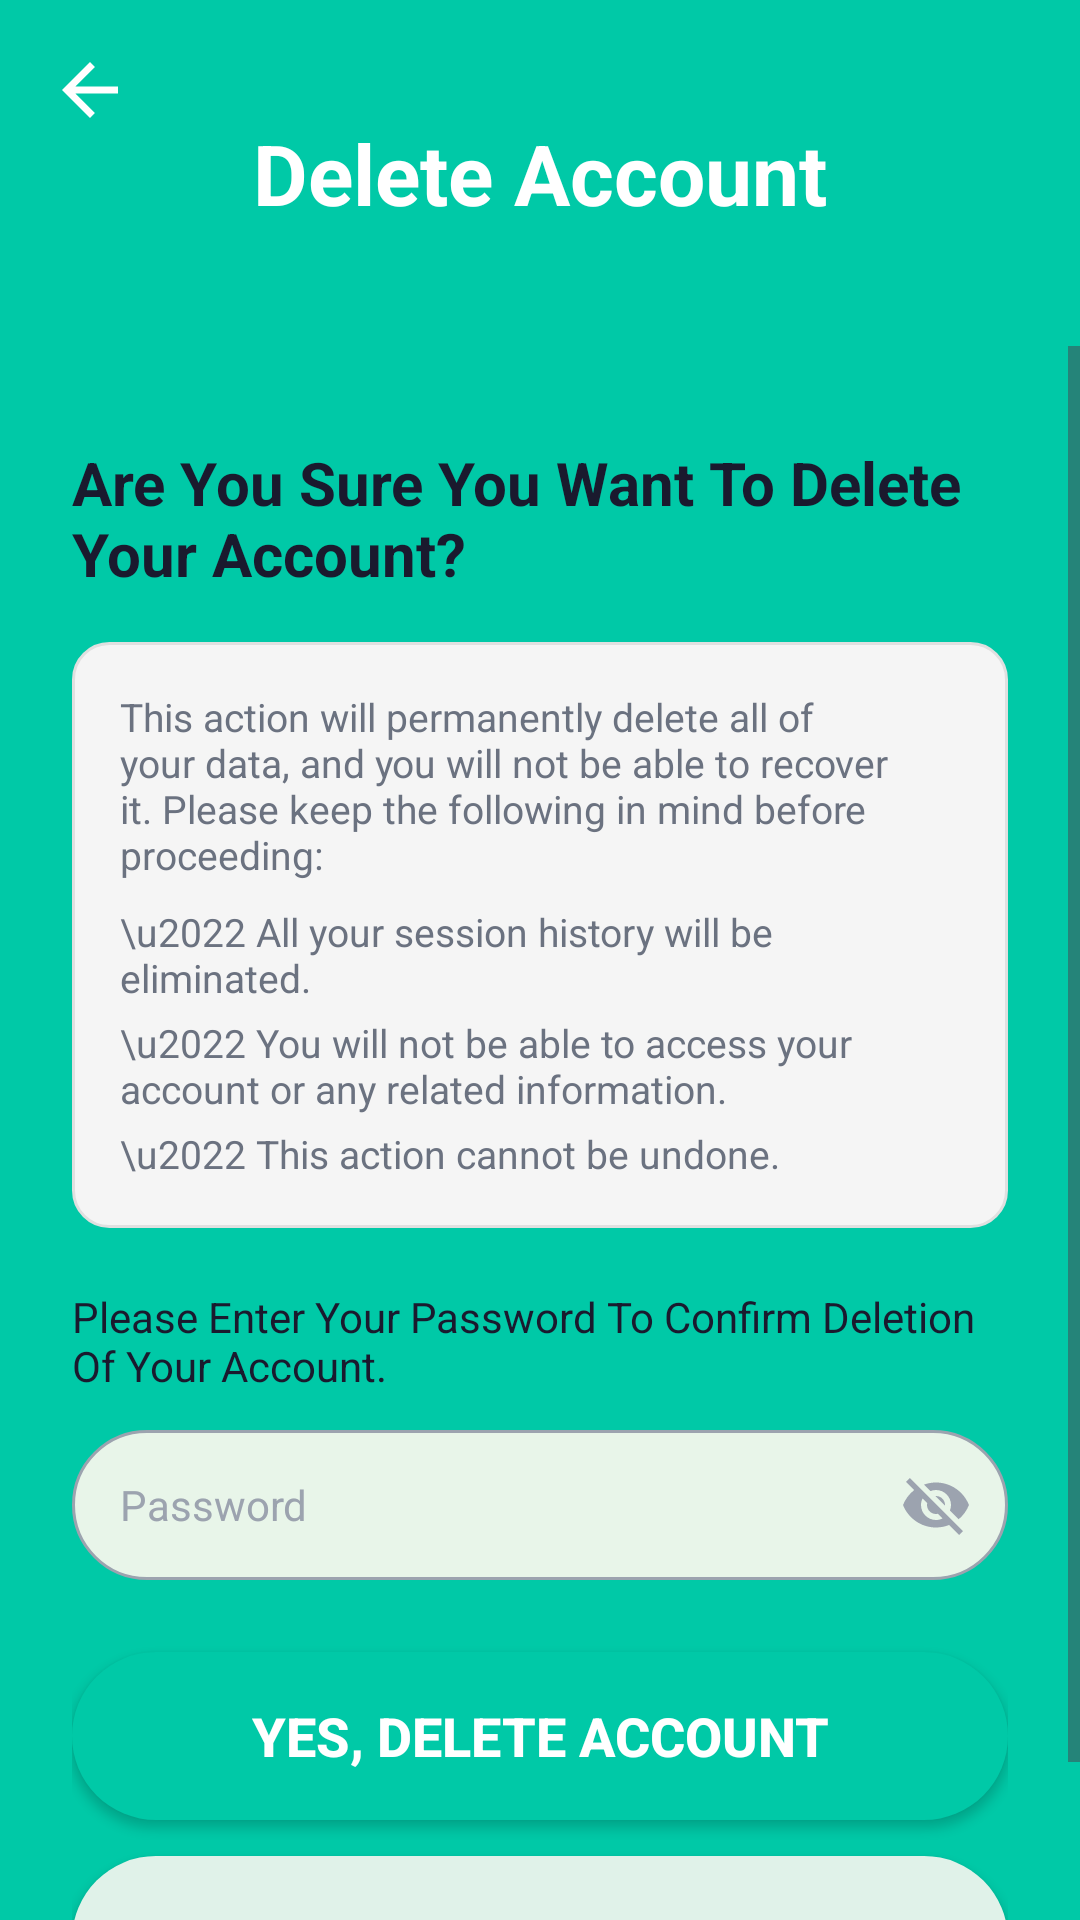

Icons on this 1080×1920 Android screen, each with its box as (x1, y1, x2, y2):
Back: (62, 62, 118, 118)
